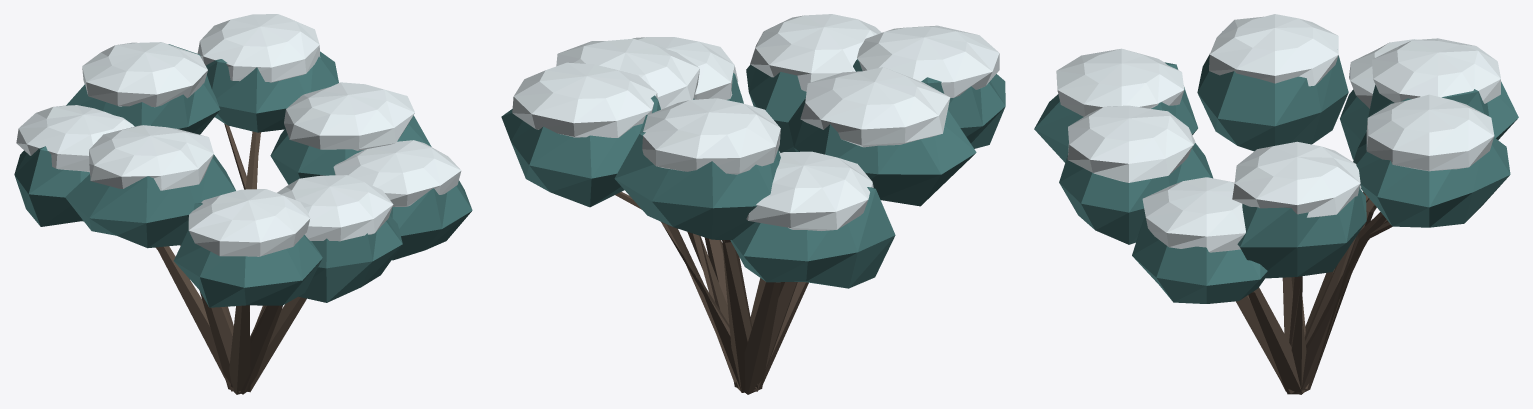
File: PLANT_06_BushMedium.glb
The picture shows the model from 3 angles, left to right: view 1: azimuth 30°, elevation 25°; view 2: azimuth 150°, elevation 25°; view 3: azimuth 270°, elevation 25°; orthographic projection. The views are drawn at different scales.
Parts seen in each view (by area): view 1: PLANT_06_BushMedium; view 2: PLANT_06_BushMedium; view 3: PLANT_06_BushMedium.
Part boxes in pixels (<box>): PLANT_06_BushMedium: <box>14,14,472,394</box>; PLANT_06_BushMedium: <box>501,14,1005,394</box>; PLANT_06_BushMedium: <box>1034,14,1518,394</box>.
Bounding box in the file's own units: 1.95 × 1.56 × 2.11.
